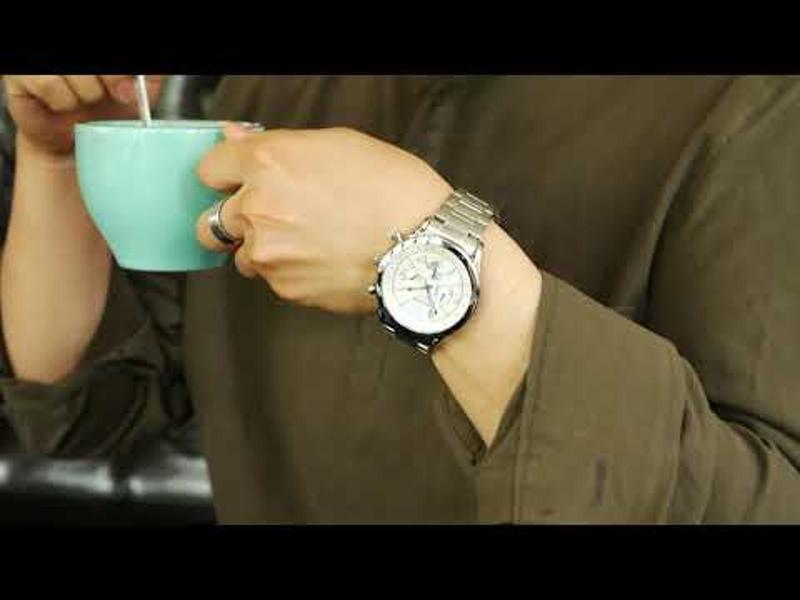watch: (367, 189, 498, 360)
